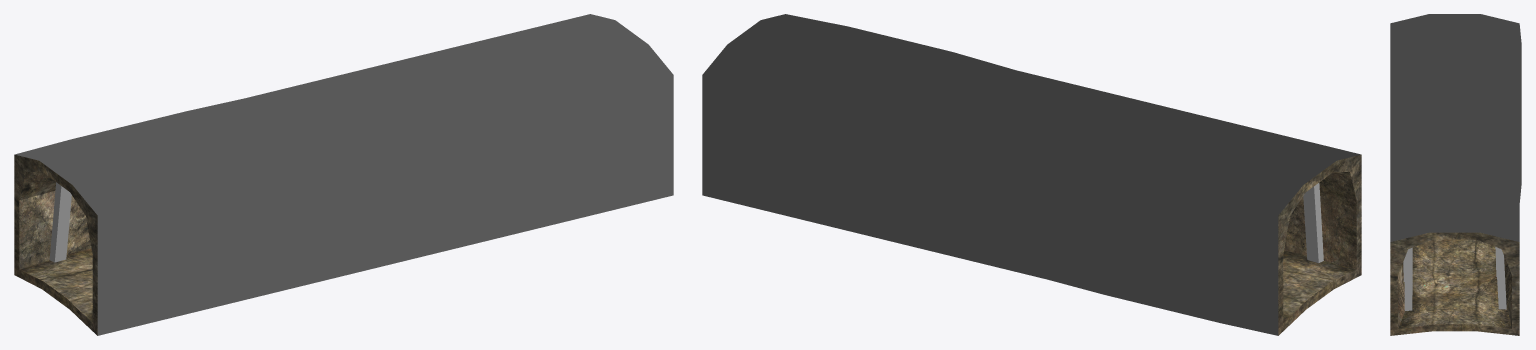
The model's file is svgoldmine01-1.dae.
3 renders of one model, left to right at view 1: azimuth 30°, elevation 25°; view 2: azimuth 150°, elevation 25°; view 3: azimuth 270°, elevation 25°, orthographic. The views are drawn at different scales.
Visible parts, largest first — view 1: cube2265_copy19-0, cube2265_copy20-0; view 2: cube2265_copy19-0, cube2265_copy20-0; view 3: cube2265_copy19-0, cube2265_copy20-0.
Boxes of the visible parts, x1,y1,x2,y2 form: cube2265_copy19-0: (14, 14, 673, 335); cube2265_copy20-0: (49, 182, 71, 262); cube2265_copy19-0: (702, 14, 1361, 335); cube2265_copy20-0: (1303, 183, 1323, 263); cube2265_copy19-0: (1390, 14, 1521, 335); cube2265_copy20-0: (1403, 247, 1506, 310).
Bounding box in the file's own units: 6000 × 1344 × 1525.
